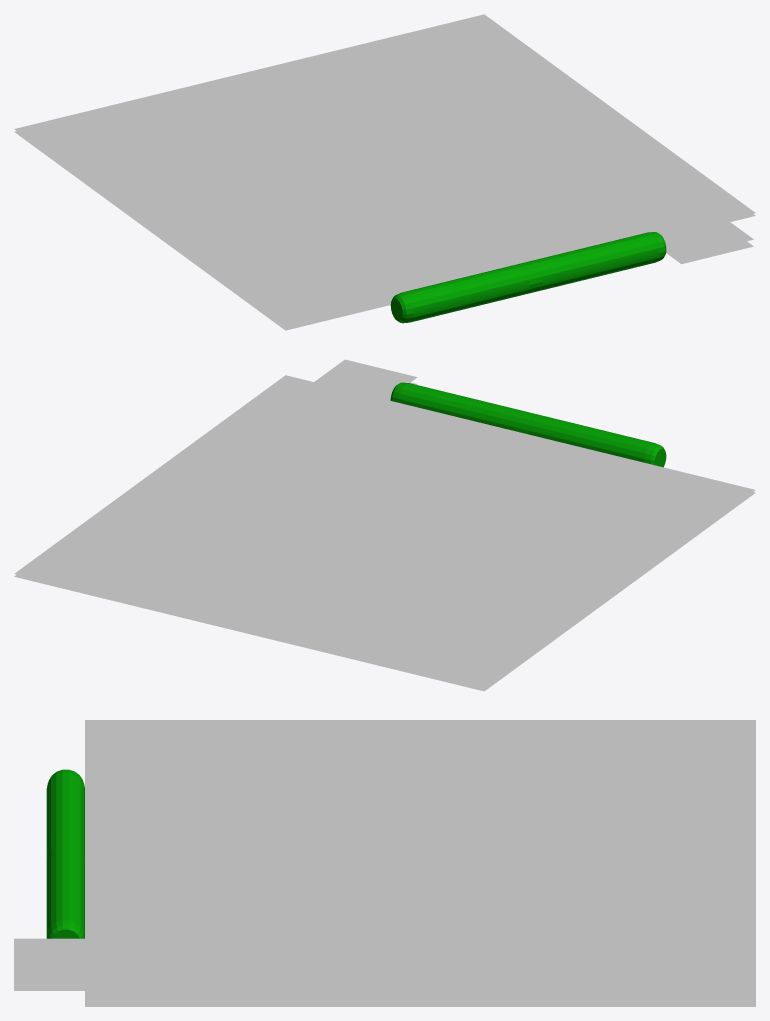
3 views of the same model, one above another, from view 1: azimuth 30°, elevation 25°; view 2: azimuth 150°, elevation 25°; view 3: azimuth 270°, elevation 25° (orthographic). The views are drawn at different scales.
Parts seen in each view (by area): view 1: 0FRONT_Plane.005, base_Cylinder.007, 1FRONT_ICON_Cylinder.004_0BASE_ICON_Cylinder.004, 0BACK_Plane.000_0FRONT_Plane.006, colors_Cylinder.009, 1BACK_ICON_Cylinder.000_0BASE_ICON_Cylinder.006; view 2: 0FRONT_Plane.005, base_Cylinder.007, 1FRONT_ICON_Cylinder.004_0BASE_ICON_Cylinder.004, 0BACK_Plane.000_0FRONT_Plane.006, colors_Cylinder.009; view 3: 0FRONT_Plane.005, base_Cylinder.007, 1FRONT_ICON_Cylinder.004_0BASE_ICON_Cylinder.004, 0BACK_Plane.000_0FRONT_Plane.006, colors_Cylinder.009, 1BACK_ICON_Cylinder.000_0BASE_ICON_Cylinder.006.
Boxes of the visible parts, box(x1,y1,x2,y2) form: 0FRONT_Plane.005: box(14, 14, 755, 327); base_Cylinder.007: box(402, 232, 659, 322); 1FRONT_ICON_Cylinder.004_0BASE_ICON_Cylinder.004: box(640, 209, 753, 257); 0BACK_Plane.000_0FRONT_Plane.006: box(14, 131, 755, 330); colors_Cylinder.009: box(390, 232, 666, 323); 1BACK_ICON_Cylinder.000_0BASE_ICON_Cylinder.006: box(666, 241, 753, 264); 0FRONT_Plane.005: box(14, 375, 755, 688); base_Cylinder.007: box(398, 383, 654, 462); 1FRONT_ICON_Cylinder.004_0BASE_ICON_Cylinder.004: box(303, 359, 417, 407); 0BACK_Plane.000_0FRONT_Plane.006: box(14, 492, 755, 691); colors_Cylinder.009: box(390, 382, 666, 467); 0FRONT_Plane.005: box(85, 720, 755, 1003); base_Cylinder.007: box(46, 772, 84, 936); 1FRONT_ICON_Cylinder.004_0BASE_ICON_Cylinder.004: box(14, 938, 117, 982); 0BACK_Plane.000_0FRONT_Plane.006: box(85, 1003, 755, 1006); colors_Cylinder.009: box(46, 769, 84, 938); 1BACK_ICON_Cylinder.000_0BASE_ICON_Cylinder.006: box(14, 982, 84, 990).
Bounding box in the file's own units: 3.58 × 0.2021 × 3.95.
